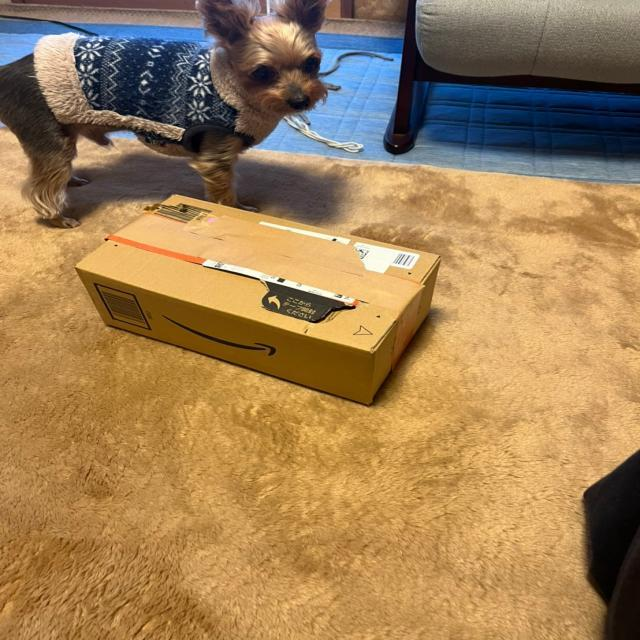-: (76, 190, 451, 411)
